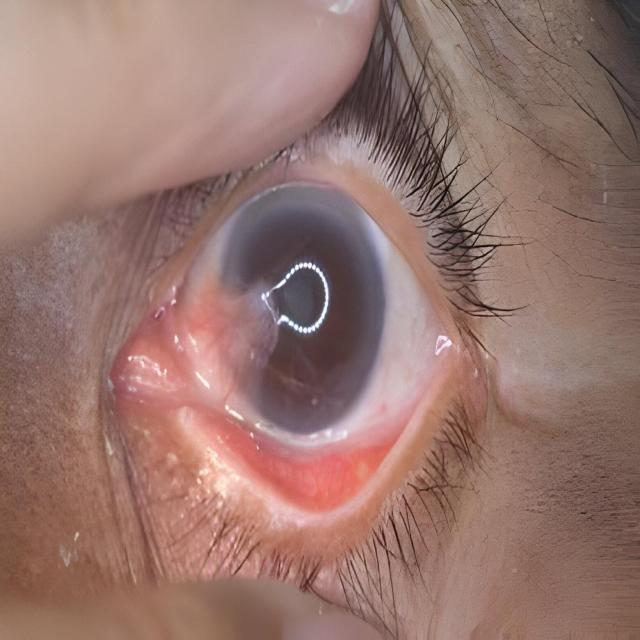Pterygium: (129, 268, 285, 440)
